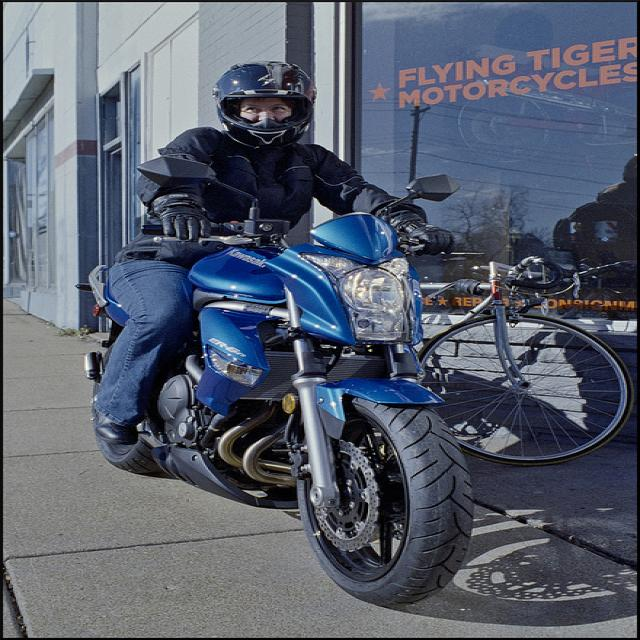motor: (156, 170, 475, 602)
